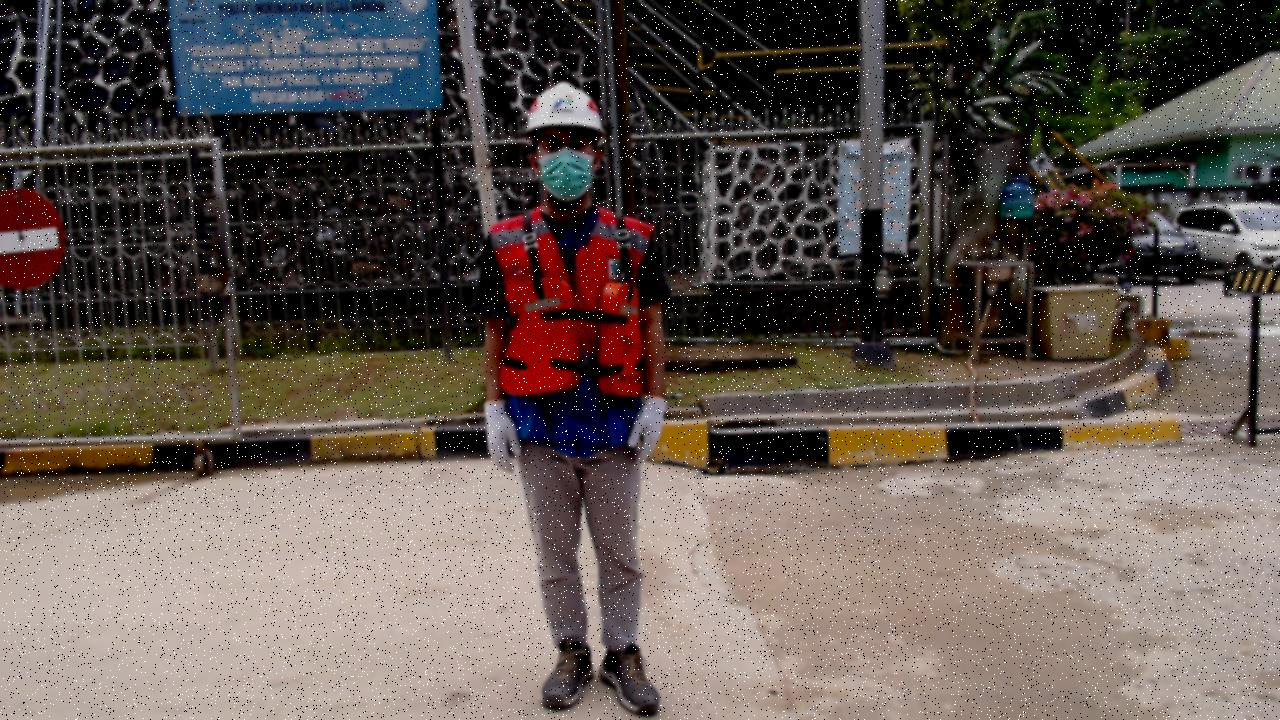gloves: (478, 399, 529, 478), (626, 390, 672, 469)
helmet: (526, 79, 607, 134)
mask: (541, 152, 597, 200)
safety-shoes: (598, 632, 670, 719), (535, 637, 597, 716)
vest: (496, 275, 649, 396)
